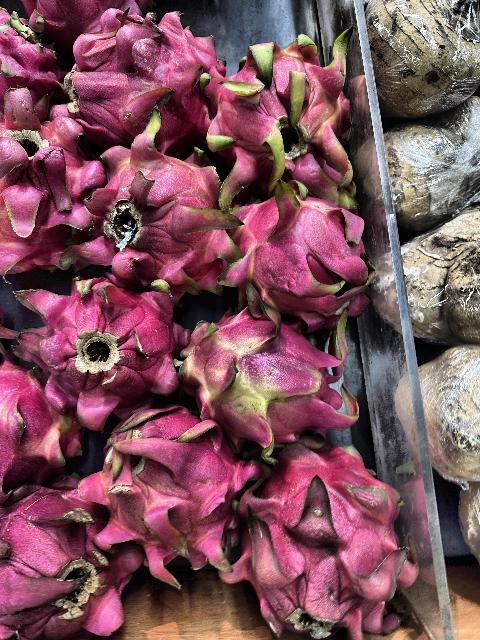buah-naga-belum-matang: (176, 308, 362, 444), (72, 146, 241, 284), (216, 34, 352, 194), (0, 359, 88, 493)
buah-naga-matang: (248, 446, 412, 640), (90, 407, 248, 567), (0, 478, 152, 636), (12, 268, 182, 406), (222, 188, 376, 322), (66, 18, 220, 142), (1, 90, 100, 282), (1, 9, 66, 106)
